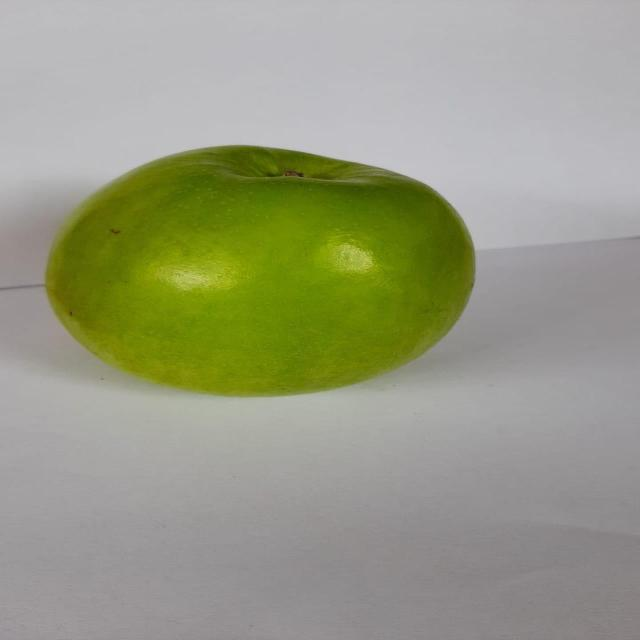Rotten Apple: (30, 134, 484, 404)
